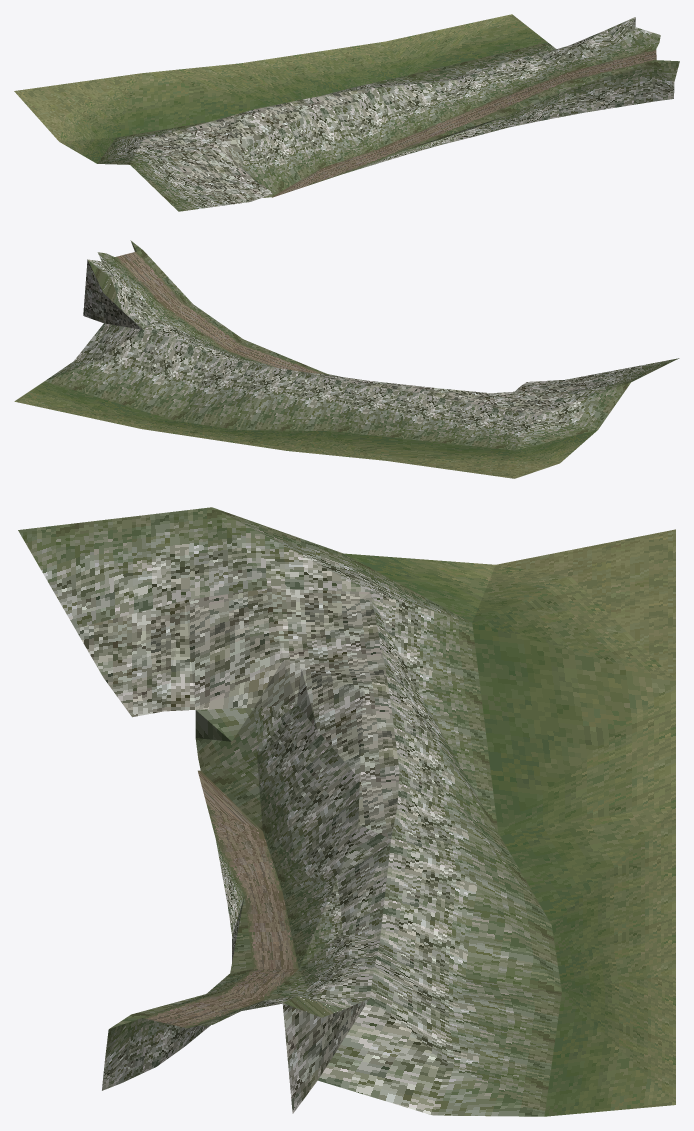
File: lodcyeground28.obj
3 views of the same model, one above another, from view 1: azimuth 30°, elevation 25°; view 2: azimuth 150°, elevation 25°; view 3: azimuth 270°, elevation 25° (orthographic). The views are drawn at different scales.
Visible parts, largest first — view 1: LODcyeground28; view 2: LODcyeground28; view 3: LODcyeground28.
Boxes of the visible parts, x1=… form: LODcyeground28: x1=14, y1=14, x2=679, y2=211; LODcyeground28: x1=14, y1=240, x2=679, y2=478; LODcyeground28: x1=18, y1=507, x2=675, y2=1116.
Size of the model in its own units: 235 by 30.22 by 126.
5 materials, 5 textured.
